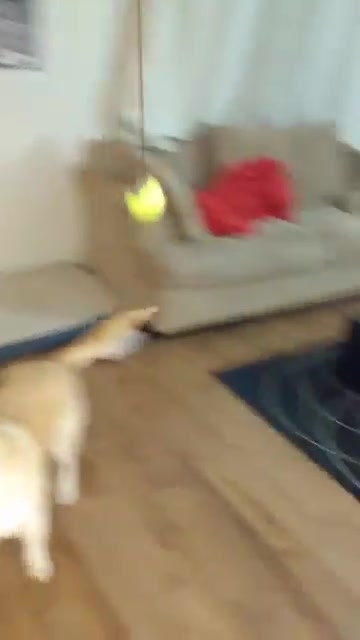tennis_ball: (124, 174, 169, 224)
